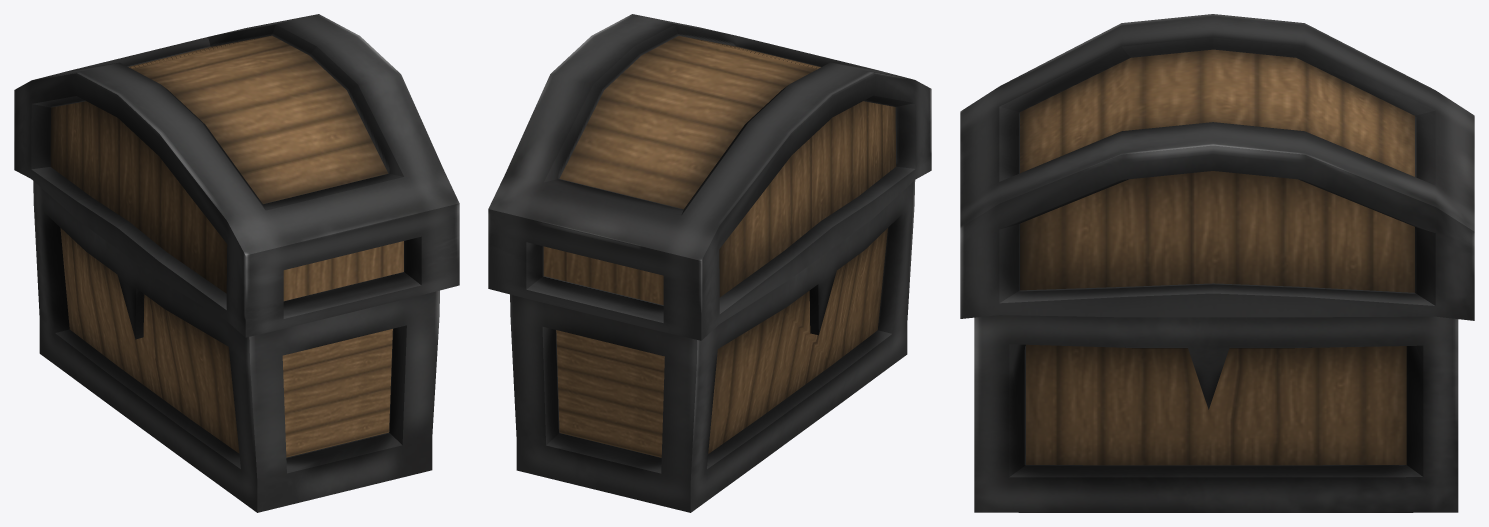
Rendered from SM_chest.fbx.
3 renders of one model, left to right at view 1: azimuth 30°, elevation 25°; view 2: azimuth 150°, elevation 25°; view 3: azimuth 270°, elevation 25°, orthographic. The views are drawn at different scales.
Parts seen in each view (by area): view 1: SM_chest; view 2: SM_chest; view 3: SM_chest.
Boxes of the visible parts, x1=… form: SM_chest: x1=14, y1=14, x2=459, y2=512; SM_chest: x1=488, y1=14, x2=931, y2=512; SM_chest: x1=960, y1=14, x2=1474, y2=512.
Size of the model in its own units: 1.38 by 1.9 by 2.29.
